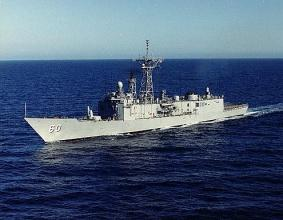warship: (22, 59, 251, 144)
